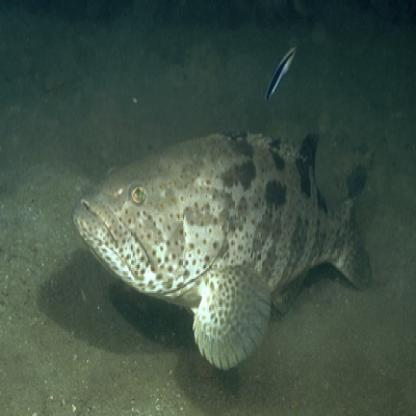grouper: (72, 118, 381, 370)
